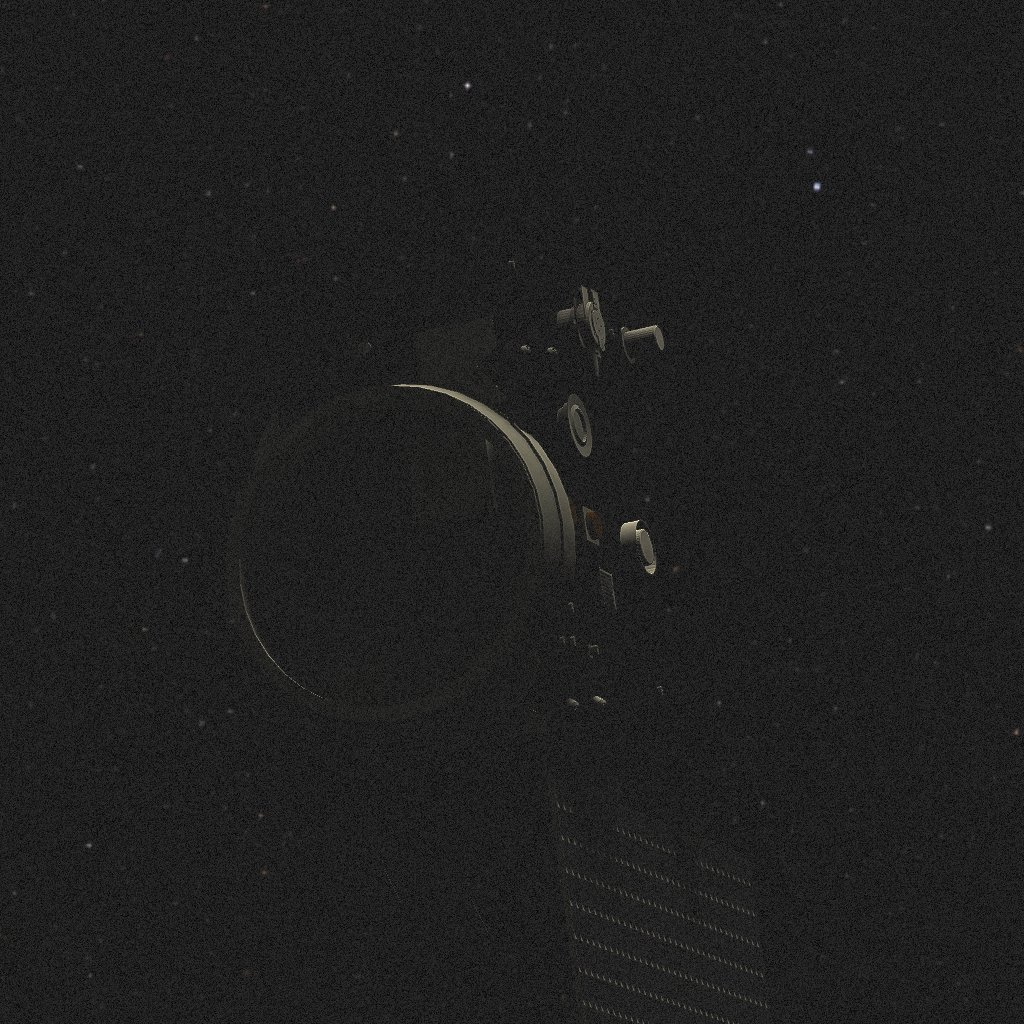proba_3_csc: (187, 239, 772, 1024)
